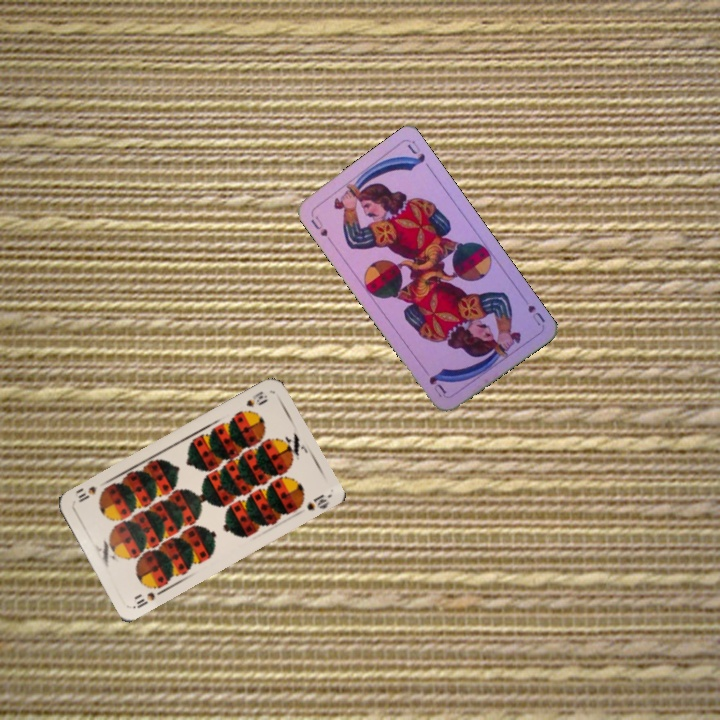S10: (129, 585, 167, 611), (242, 387, 270, 410)
SU: (517, 292, 548, 328), (307, 210, 330, 239)
